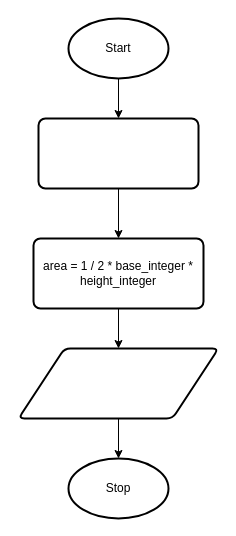
The diagram is 236 pixels wide and 536 high, and some of its shapes have lost their labels. The box of each missing label's shape, as (x1, y1, x2, y2) in pixels:
pass base_integer and height_integer: (37, 117, 199, 189)
Print "The area of the triangle is area.": (17, 347, 219, 419)
